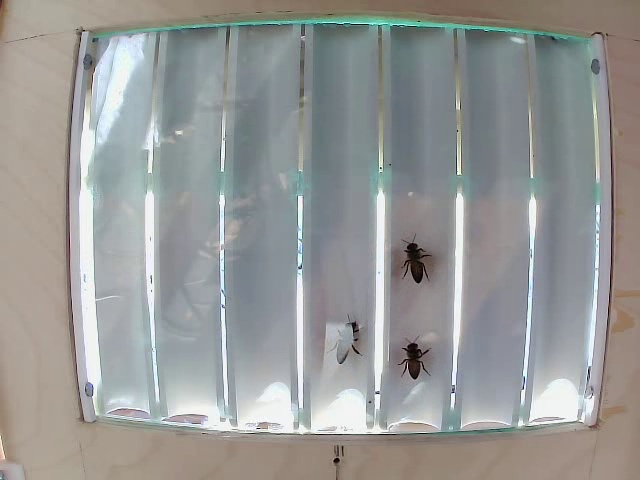bee: (332, 310, 374, 372), (405, 234, 431, 300), (398, 338, 420, 375)
